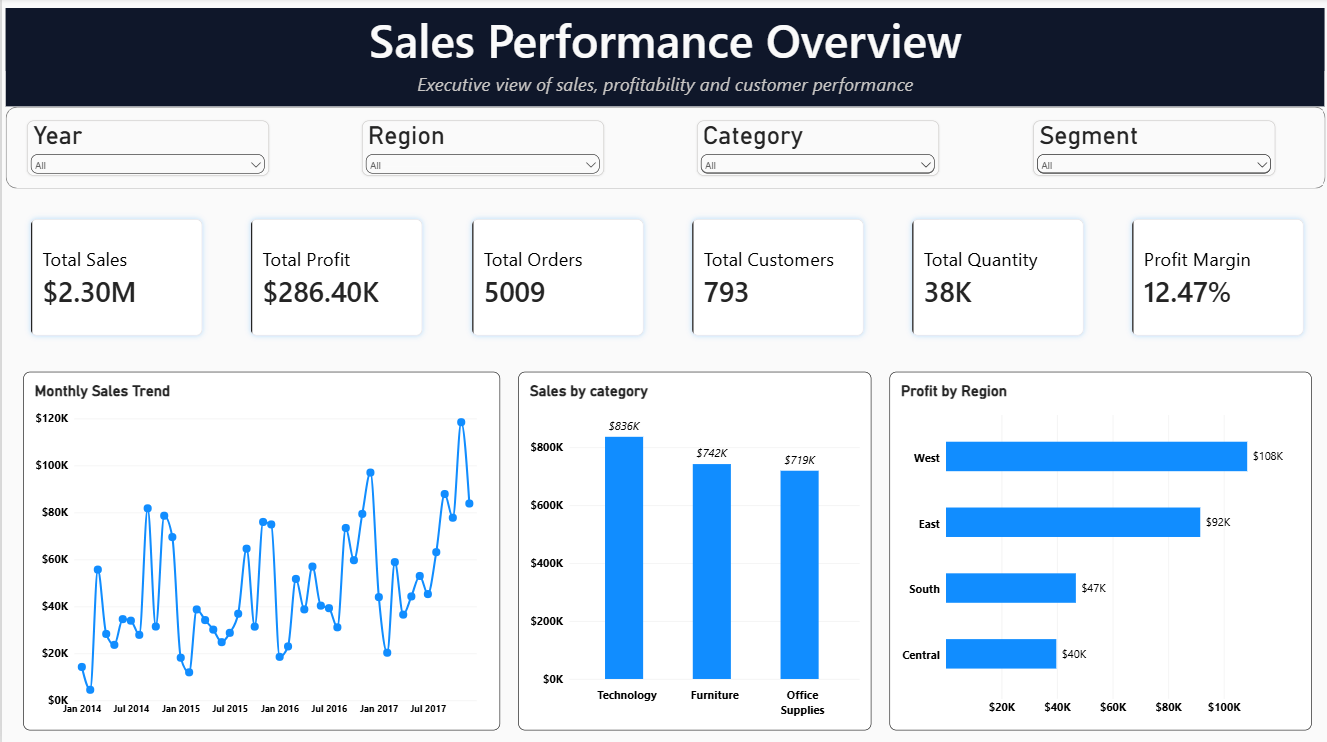

The dashboard page shown, as its layout file describes it:
{"tool":"powerbi","page":{"name":"Executive Overview","canvas":[1920,1080],"ordinal":0},"visuals":[{"type":"shape","box":[6.2,158,1912.1,118.5],"z":0},{"type":"textbox","title":"Sales Performance Overview","box":[6.2,14.5,1910,176.7],"z":1000},{"type":"cardVisual","fields":{"Data":["DateTable.Total Sales"]},"box":[31.2,309.7,270,190],"z":2000},{"type":"lineChart","title":"Monthly Sales Trend","fields":{"Category":["DateTable.Year Month Date"],"Y":["DateTable.Total Sales"]},"box":[31.2,540.4,690,519.6],"z":3000},{"type":"clusteredColumnChart","title":"Sales by category","fields":{"Category":["Sales.category"],"Y":["DateTable.Total Sales"]},"box":[747.2,540.4,511.3,519.6],"z":4000},{"type":"barChart","title":"Profit by Region","fields":{"Category":["Sales.region"],"Y":["DateTable.Total Profit"]},"box":[1284.4,540.4,611,519.6],"z":5000},{"type":"slicer","fields":{"Values":["DateTable.Year"]},"box":[35.3,176.7,350,80],"z":6000},{"type":"slicer","fields":{"Values":["Sales.region"]},"box":[521,176.7,350,80],"z":7000},{"type":"slicer","fields":{"Values":["Sales.category"]},"box":[1006.6,176.7,350,80],"z":8000},{"type":"slicer","fields":{"Values":["Sales.segment"]},"box":[1492.3,176.7,350,80],"z":9000},{"type":"cardVisual","fields":{"Data":["DateTable.Total Profit"]},"box":[349.9,309.7,270,190],"z":11000},{"type":"cardVisual","fields":{"Data":["DateTable.Total Orders"]},"box":[668.7,309.7,270.2,190],"z":12000},{"type":"cardVisual","fields":{"Data":["DateTable.Total Customers"]},"box":[987.6,309.7,270.2,190],"z":13000},{"type":"cardVisual","fields":{"Data":["DateTable.Profit Margin"]},"box":[1625.3,309.7,270,190],"z":14000},{"type":"cardVisual","fields":{"Data":["DateTable.Total Quantity"]},"box":[1306.5,309.7,270,190],"z":15000}]}

Visuals, with their boxes in screenshot pixels (x1, y1, x2, y2), scaled from the page's 1920x1080 canvas onto the 1327x742 screenshot:
shape: (left=4, top=109, right=1326, bottom=190)
"Sales Performance Overview" textbox: (left=4, top=10, right=1324, bottom=131)
cardVisual - DateTable.Total Sales: (left=22, top=213, right=208, bottom=343)
"Monthly Sales Trend" lineChart: (left=22, top=371, right=498, bottom=728)
"Sales by category" clusteredColumnChart: (left=516, top=371, right=870, bottom=728)
"Profit by Region" barChart: (left=888, top=371, right=1310, bottom=728)
slicer - DateTable.Year: (left=24, top=121, right=266, bottom=176)
slicer - Sales.region: (left=360, top=121, right=602, bottom=176)
slicer - Sales.category: (left=696, top=121, right=938, bottom=176)
slicer - Sales.segment: (left=1031, top=121, right=1273, bottom=176)
cardVisual - DateTable.Total Profit: (left=242, top=213, right=428, bottom=343)
cardVisual - DateTable.Total Orders: (left=462, top=213, right=649, bottom=343)
cardVisual - DateTable.Total Customers: (left=683, top=213, right=869, bottom=343)
cardVisual - DateTable.Profit Margin: (left=1123, top=213, right=1310, bottom=343)
cardVisual - DateTable.Total Quantity: (left=903, top=213, right=1090, bottom=343)
